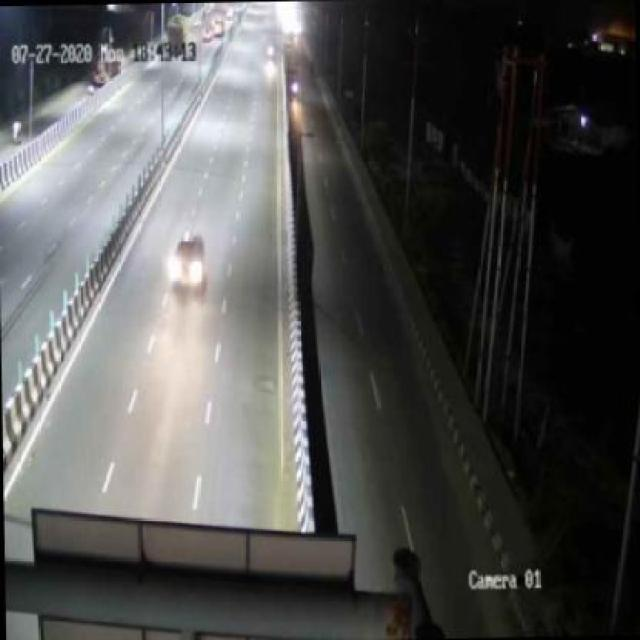car: (166, 231, 214, 295)
